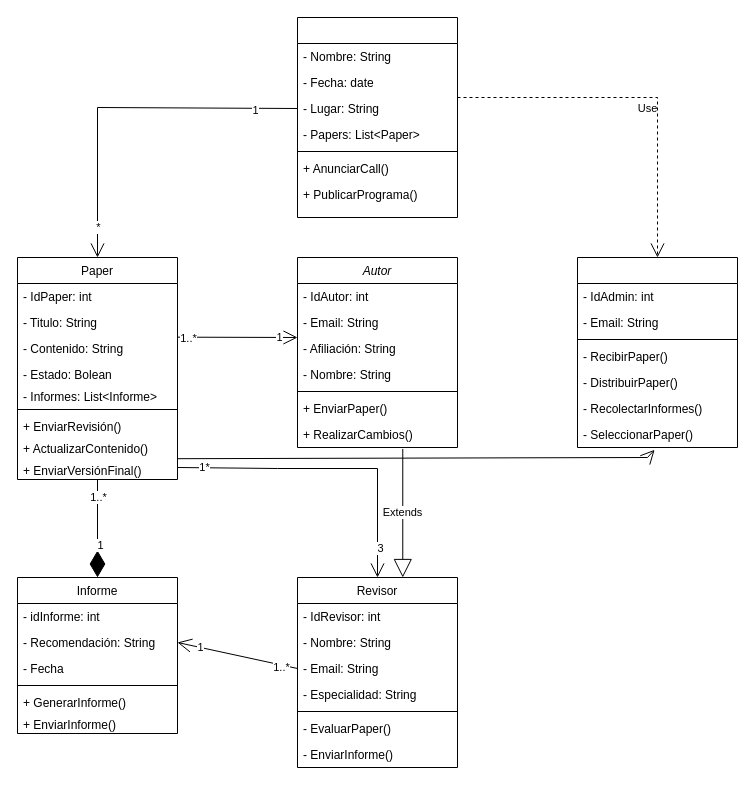
Some shapes in this 755 by 788 pixel diagram are drawn without their labels. The box of each missing label's shape, as (x1, y1, x2, y2) in pixels:
Administrador: (576, 256, 738, 448)
Conferencia: (296, 16, 458, 218)
